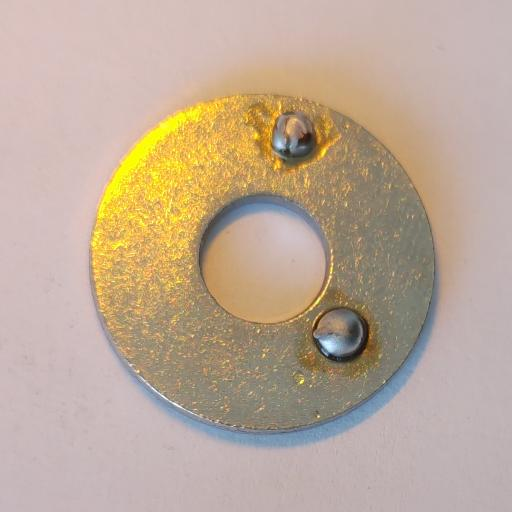excess_material: (313, 307, 369, 363), (272, 112, 316, 160)
